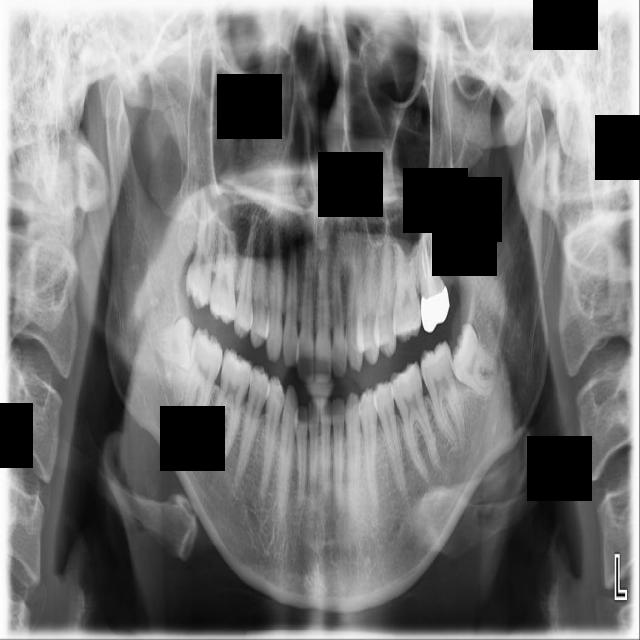52: (420, 277, 450, 334), (392, 288, 422, 343)
73: (414, 203, 442, 293), (611, 570, 617, 580)
BioHorizons Implant: (414, 202, 452, 334)
Biomet 3i Implant: (432, 320, 511, 406)
Blue Sky Bio Implant: (415, 339, 471, 459)
Caries: (182, 183, 222, 311)
Implant: (177, 326, 227, 439)
Keystone Dental Implant: (147, 314, 210, 379)
